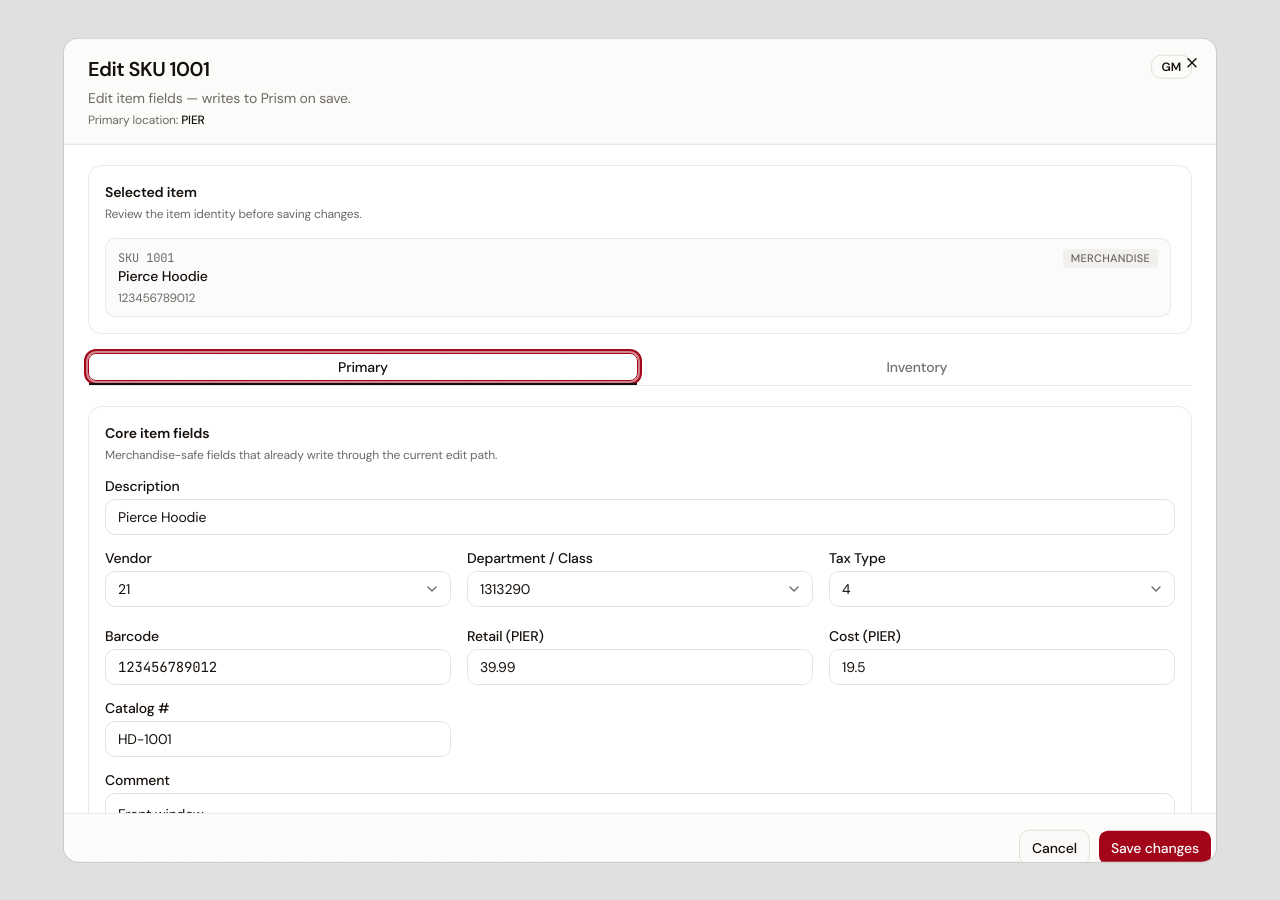
Test case: EditItemDialogV2 › shows the inventory tab for a single GM item and reveals PCOP inventory values
Click the tab "Inventory" at (917, 367), box [642,353,1192,381]
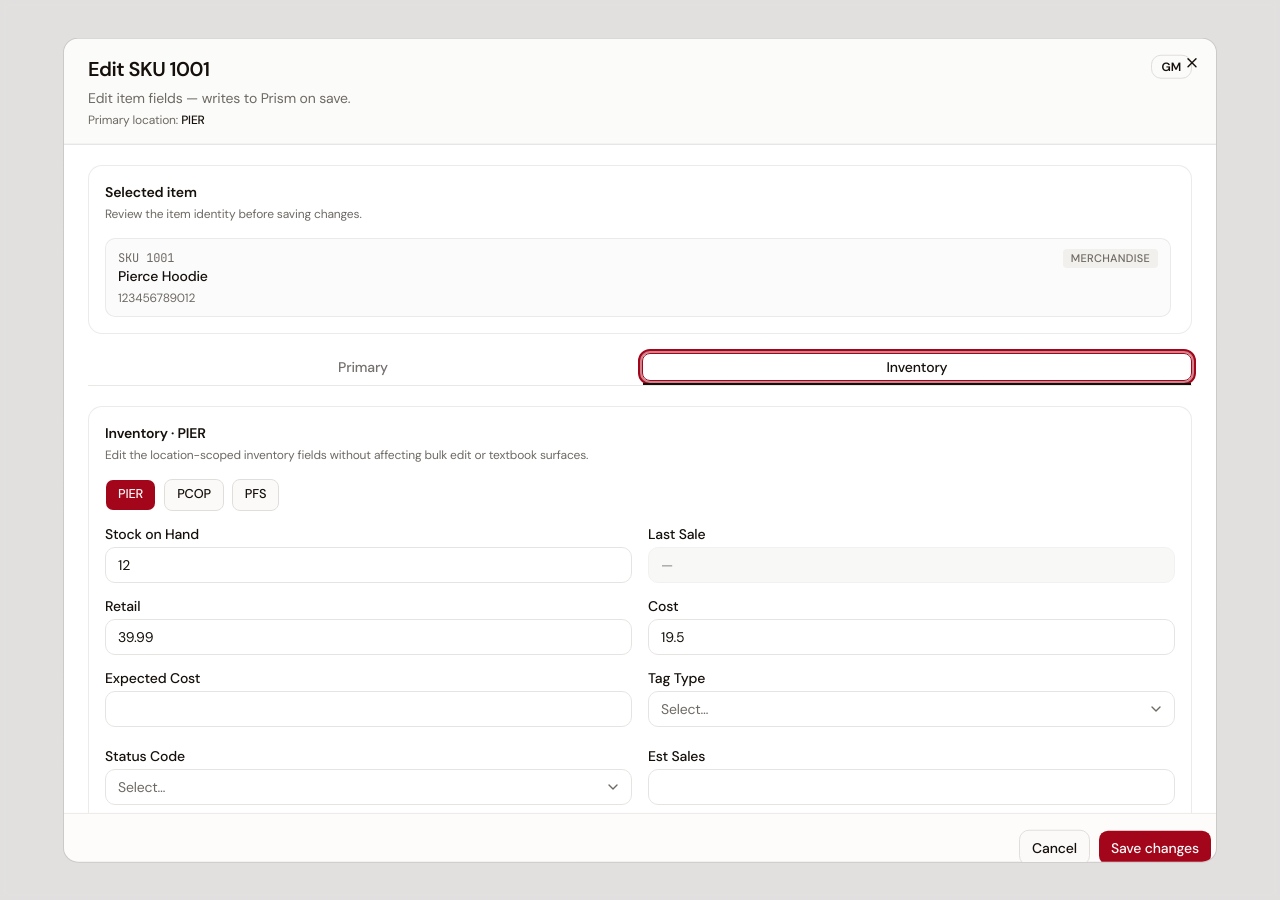
Click the button "PCOP" at (194, 494), box [164,478,224,510]
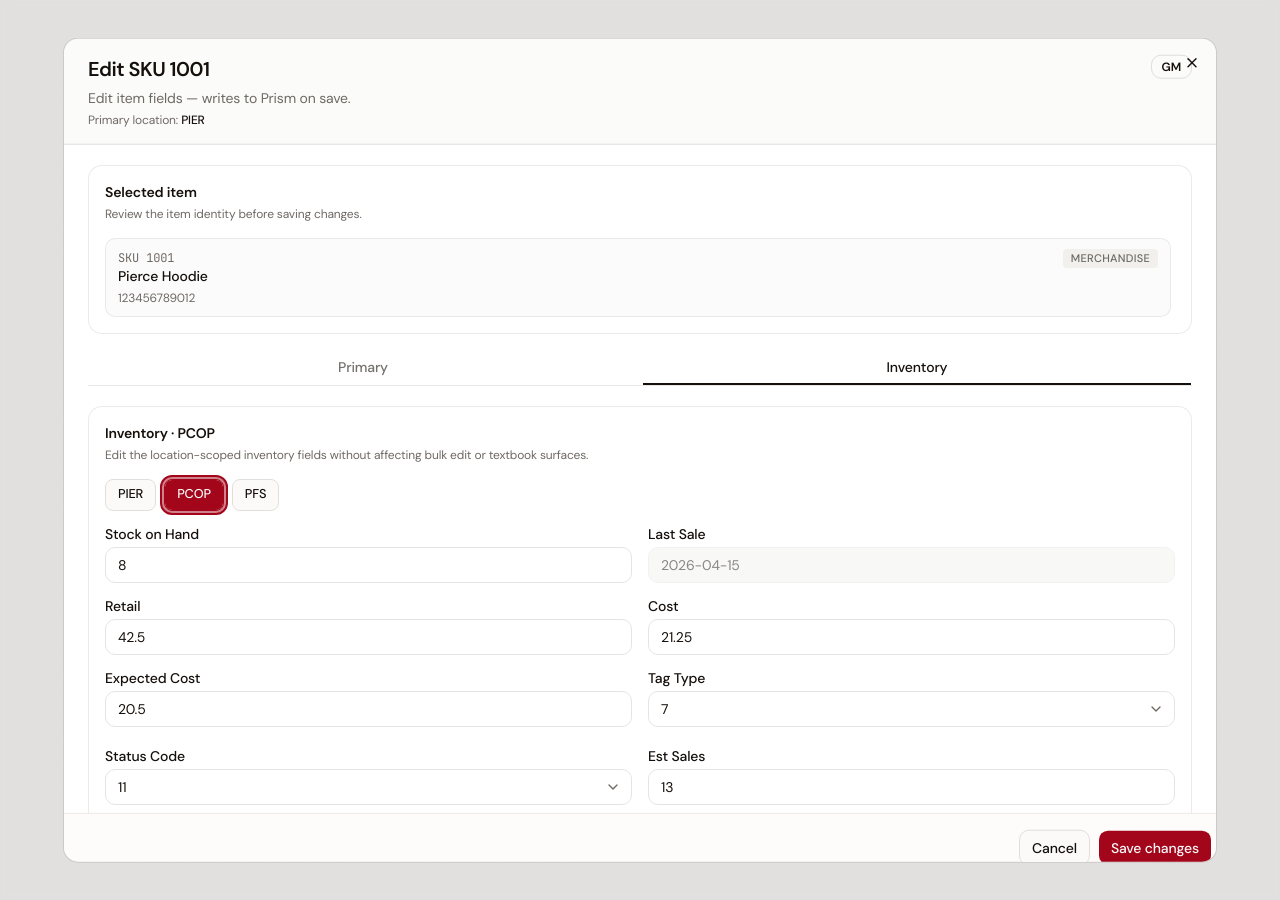
expect the number field labelled "Stock on Hand" holds "8": met, box [105,546,632,582]
expect the number field labelled "Retail" holds "42.5": met, box [105,618,632,654]
expect the number field labelled "Cost" holds "21.25": met, box [648,618,1175,654]
